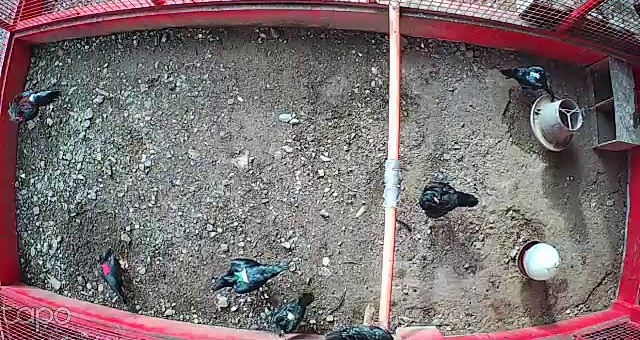Chicken: (207, 259, 292, 299), (408, 178, 481, 222), (492, 59, 558, 104), (92, 245, 135, 308), (273, 288, 317, 340)
Rooster: (5, 80, 63, 128)
Saddle_Color_Red: (100, 262, 112, 274)
Saddle_Color_Yellow: (282, 308, 296, 322)
Saddle_Color_YellowGreen: (235, 268, 251, 286)
